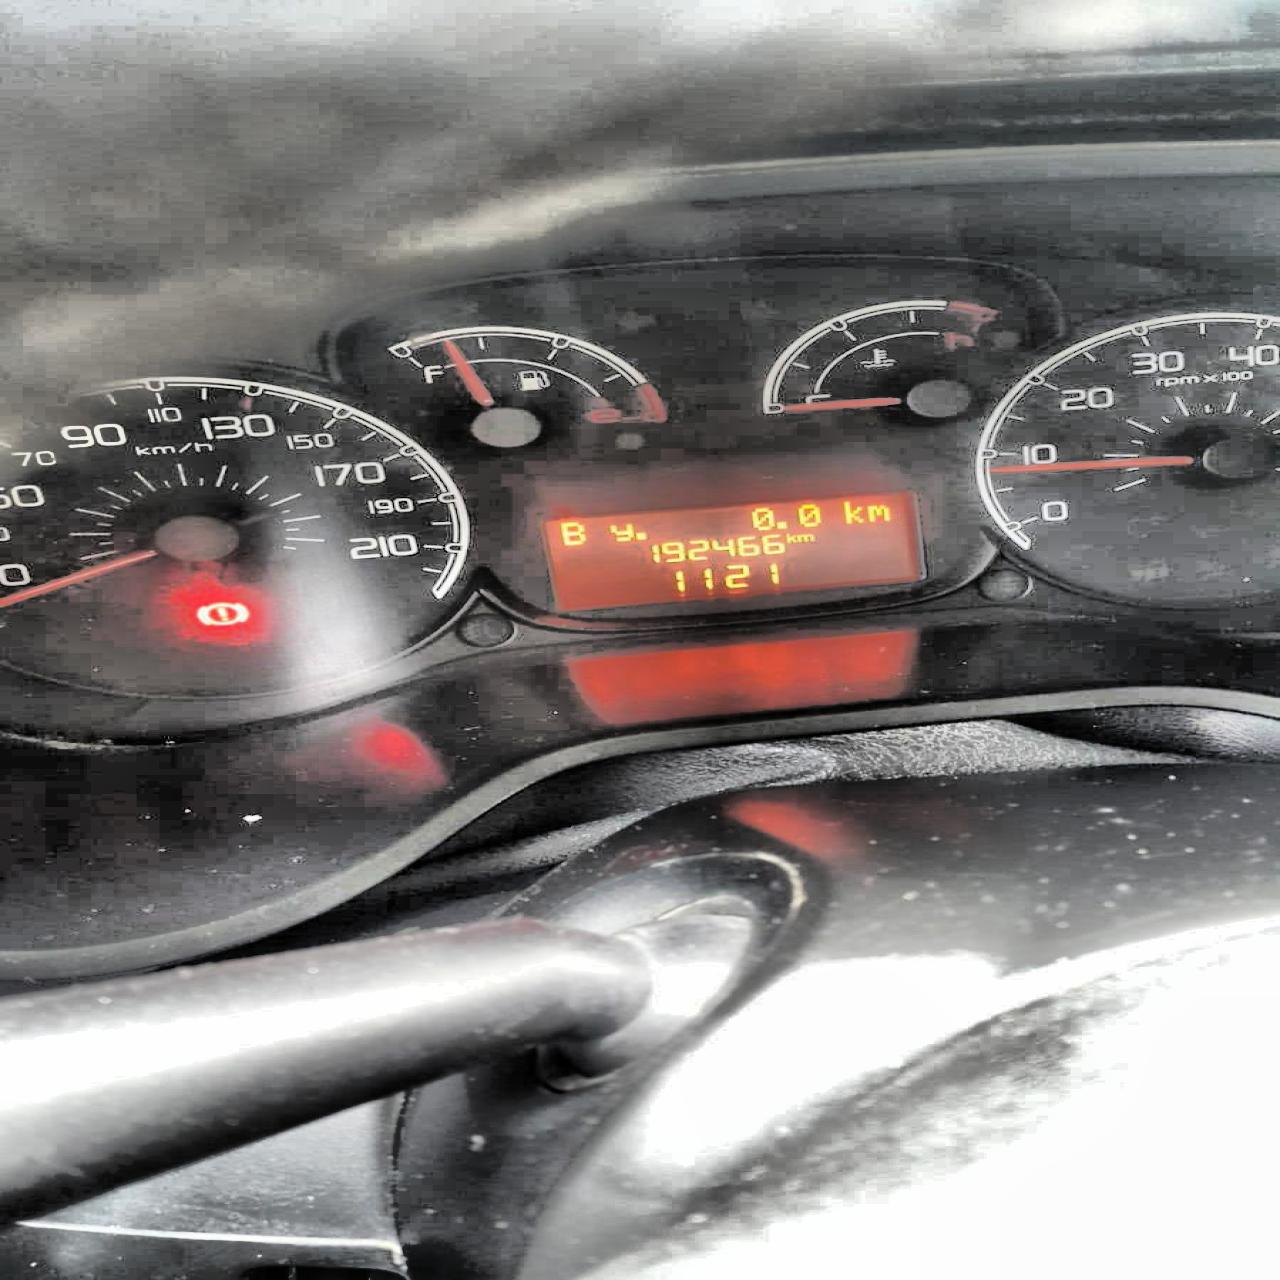-: (633, 530, 651, 539), (775, 519, 788, 530)
0: (743, 505, 772, 532), (796, 501, 823, 529)
1: (662, 567, 688, 595), (764, 560, 788, 590), (697, 566, 715, 594), (647, 540, 660, 568)
2: (723, 563, 748, 591), (688, 538, 710, 561)
4: (710, 535, 735, 558)
6: (760, 533, 783, 557), (735, 535, 757, 557)
9: (662, 540, 682, 563)
X: (559, 518, 591, 547), (843, 498, 864, 524), (608, 522, 634, 542), (866, 504, 890, 523), (795, 533, 816, 543), (784, 531, 796, 545)
odometer: (530, 484, 934, 614)
